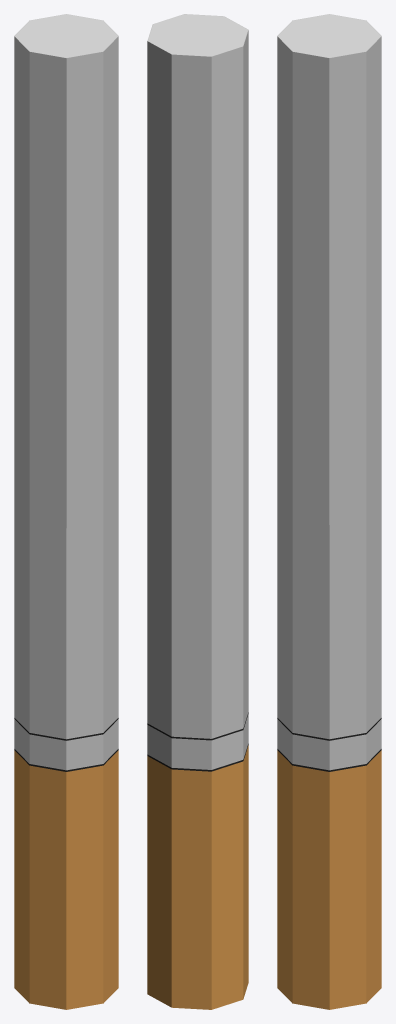
File: CigaretteFBX.fbx
3 views of the same model, side by side, from view 1: azimuth 90°, elevation 25°; view 2: azimuth 150°, elevation 25°; view 3: azimuth 270°, elevation 25° (orthographic).
Parts seen in each view (by area): view 1: Cigarette; view 2: Cigarette; view 3: Cigarette.
Boxes of the visible parts, x1,y1,x2,y2 form: Cigarette: (14,14,118,1009); Cigarette: (147,14,248,1009); Cigarette: (277,14,381,1009).
Size of the model in its own units: 0.8027 by 8.06 by 0.8027.
